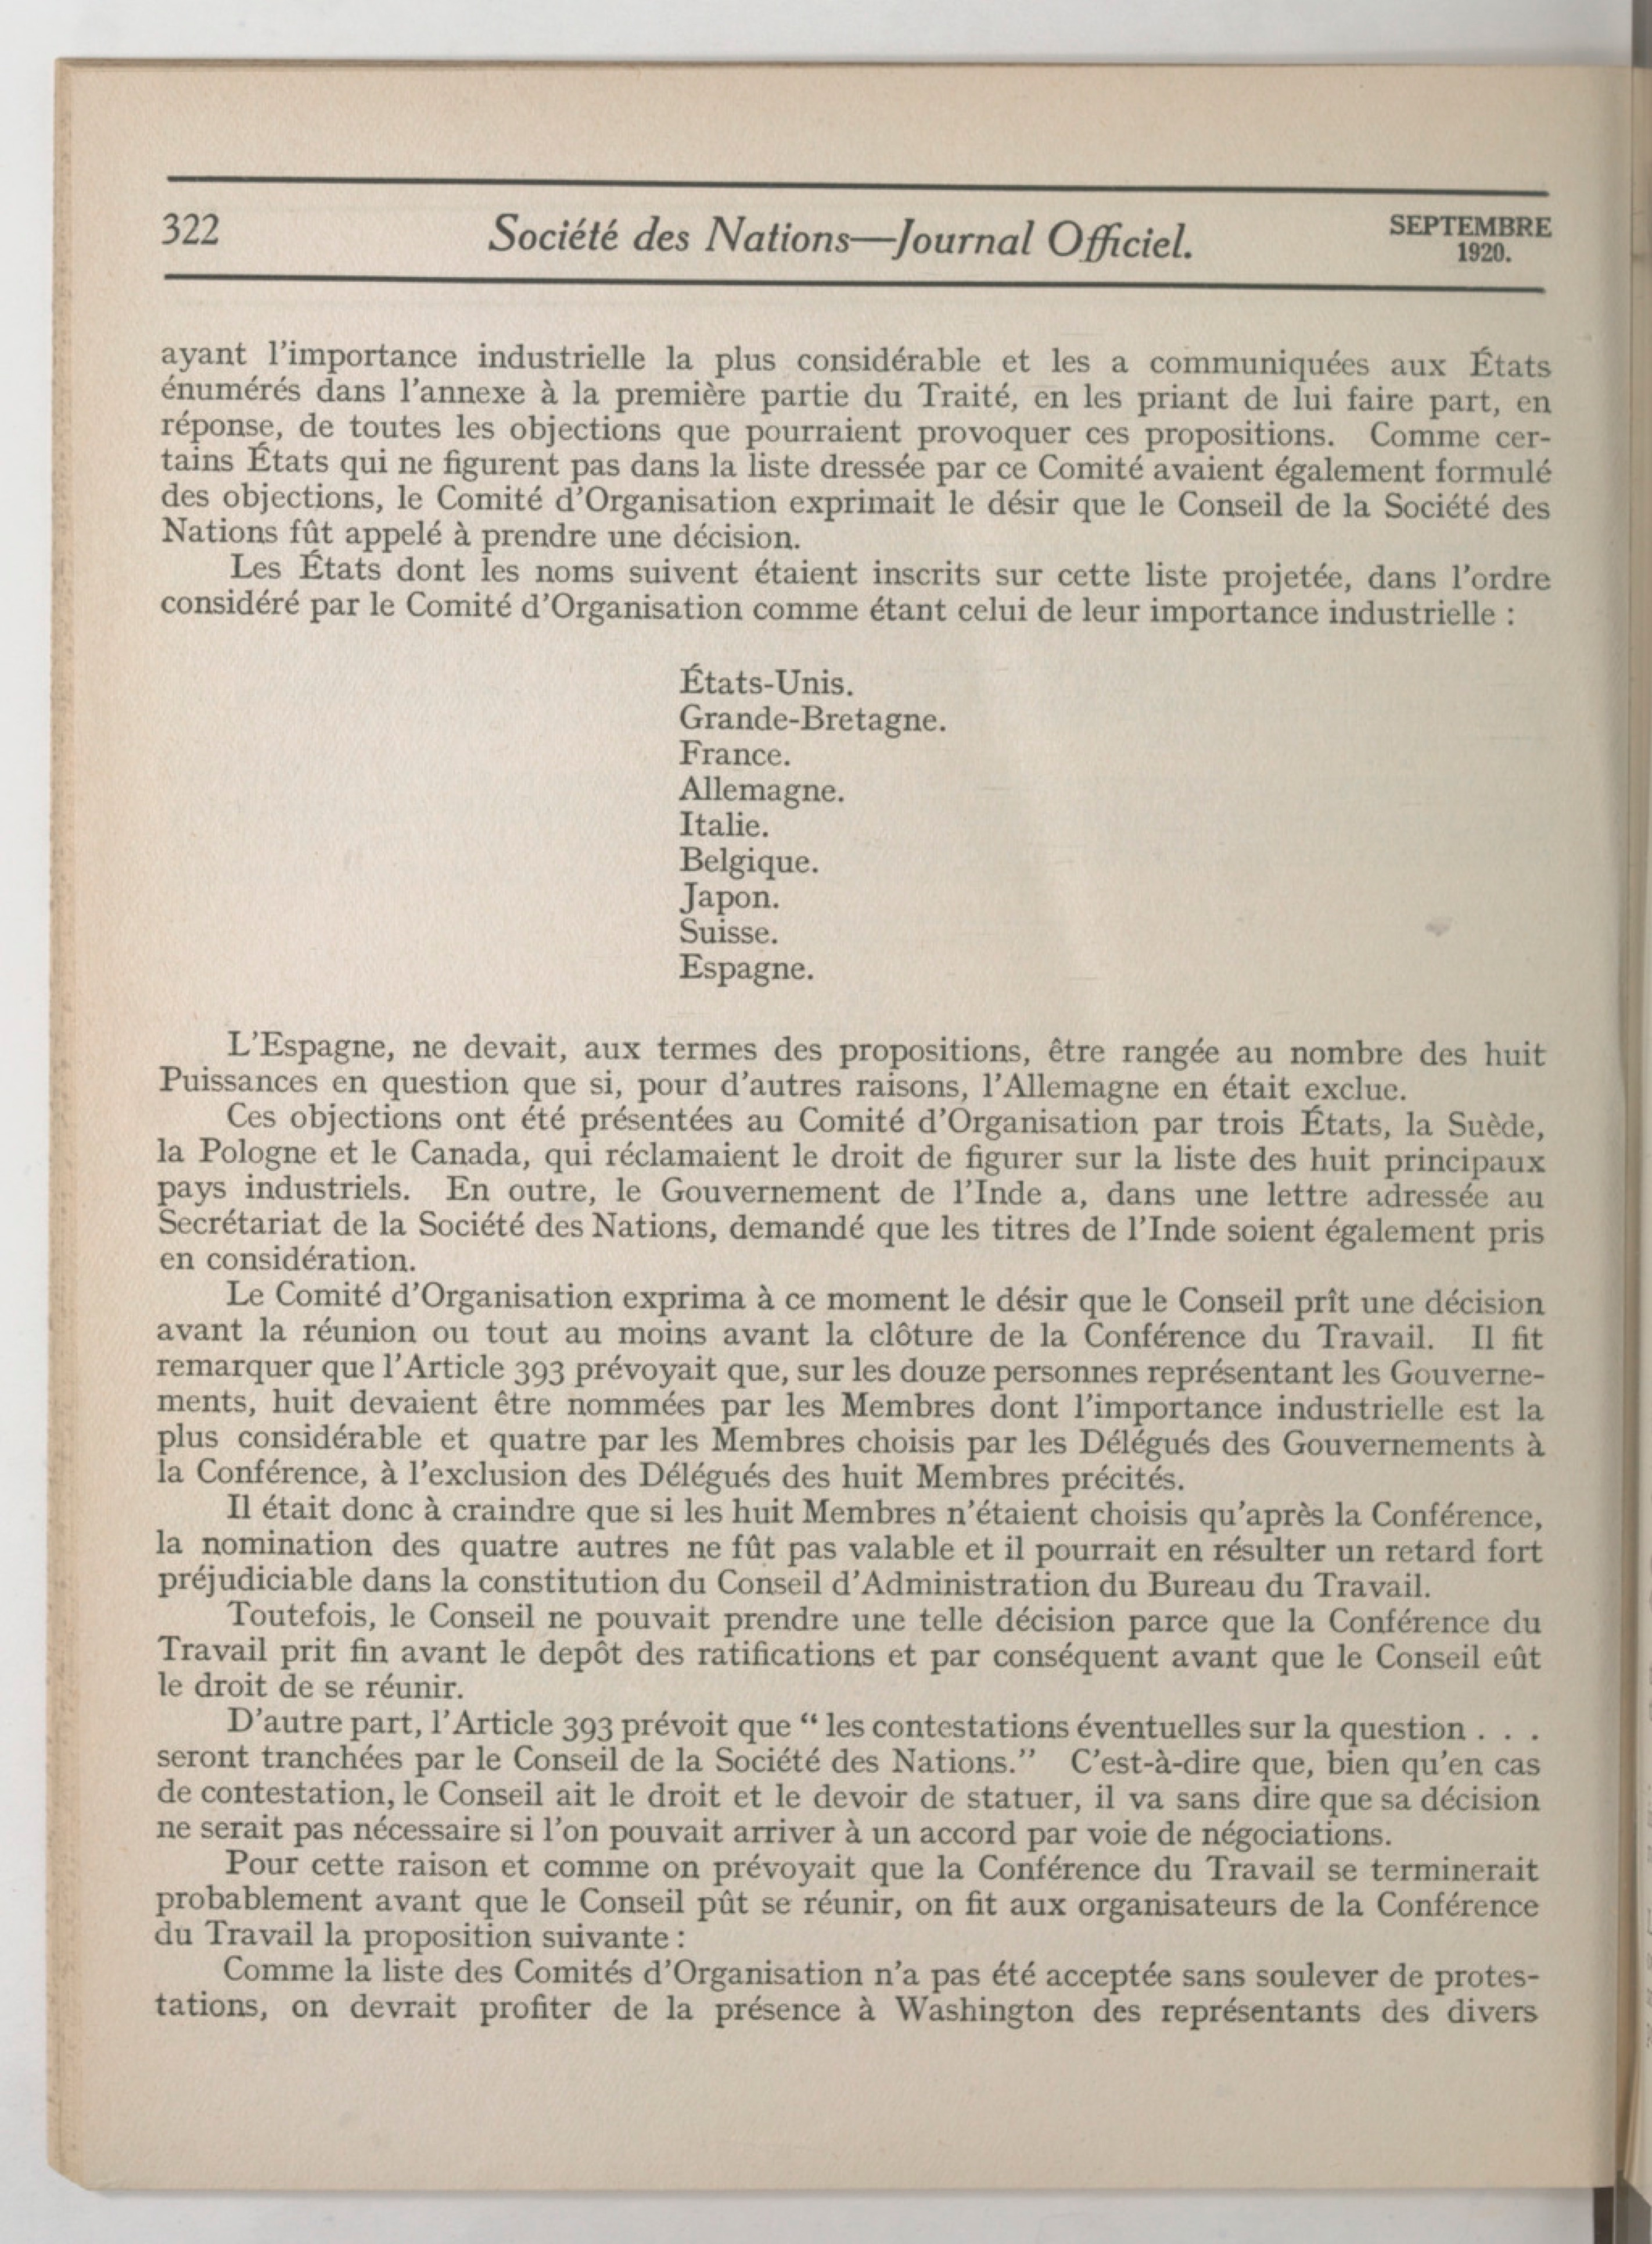MainZone-Continued: (145, 333, 1565, 552)
MainZone-Date: (1377, 204, 1558, 274)
MainZone-ListItem: (669, 700, 950, 739), (667, 659, 859, 702), (667, 950, 819, 993), (667, 775, 852, 810), (667, 843, 817, 882), (669, 739, 796, 774), (669, 880, 782, 918), (667, 807, 774, 843), (667, 918, 786, 950)
MainZone-P: (141, 1277, 1554, 1497), (143, 1105, 1554, 1279), (138, 1709, 1551, 1852), (141, 1495, 1553, 1605), (139, 1601, 1553, 1707), (139, 1849, 1553, 1955), (141, 1953, 1547, 2040), (148, 554, 1565, 636), (143, 1023, 1561, 1103)
NumberingZone: (150, 202, 230, 260)
RunningTitleZone: (474, 204, 1201, 270)
